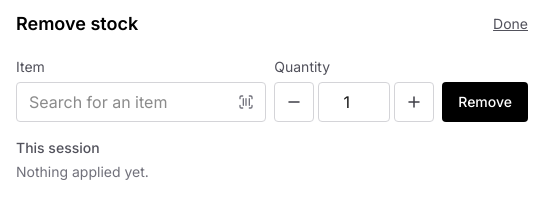
it: BatchEntry › removes the chosen quantity of a picked item in remove mode
The width and height of the screenshot is (545, 209).
In the dropdown labelled "Item": (141, 102) left=16, top=82, right=266, bottom=122, type "Ri"
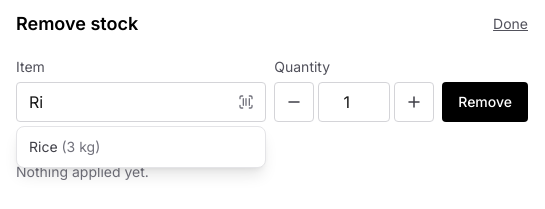
Press the mouse on the option "Rice (3 kg)": (65, 146) left=29, top=138, right=100, bottom=155
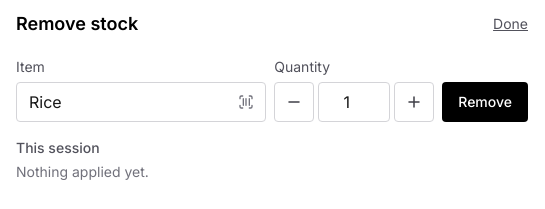
Replace the text in the number field labelled "Quantity" with "2": (354, 102) left=318, top=82, right=390, bottom=122
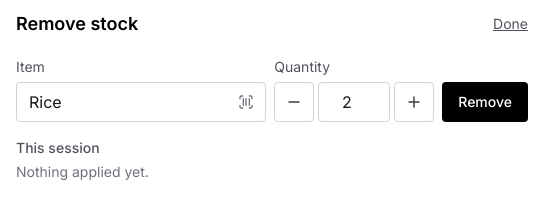
Click the button "Remove": click(485, 102) left=442, top=82, right=528, bottom=122
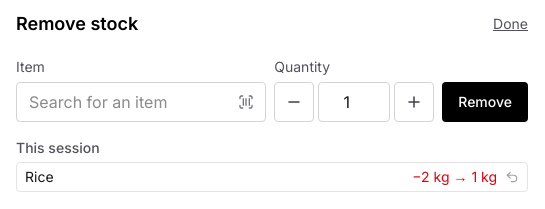
expect the text "−2 kg → 1 kg" is shown: met, box left=412, top=167, right=497, bottom=187
